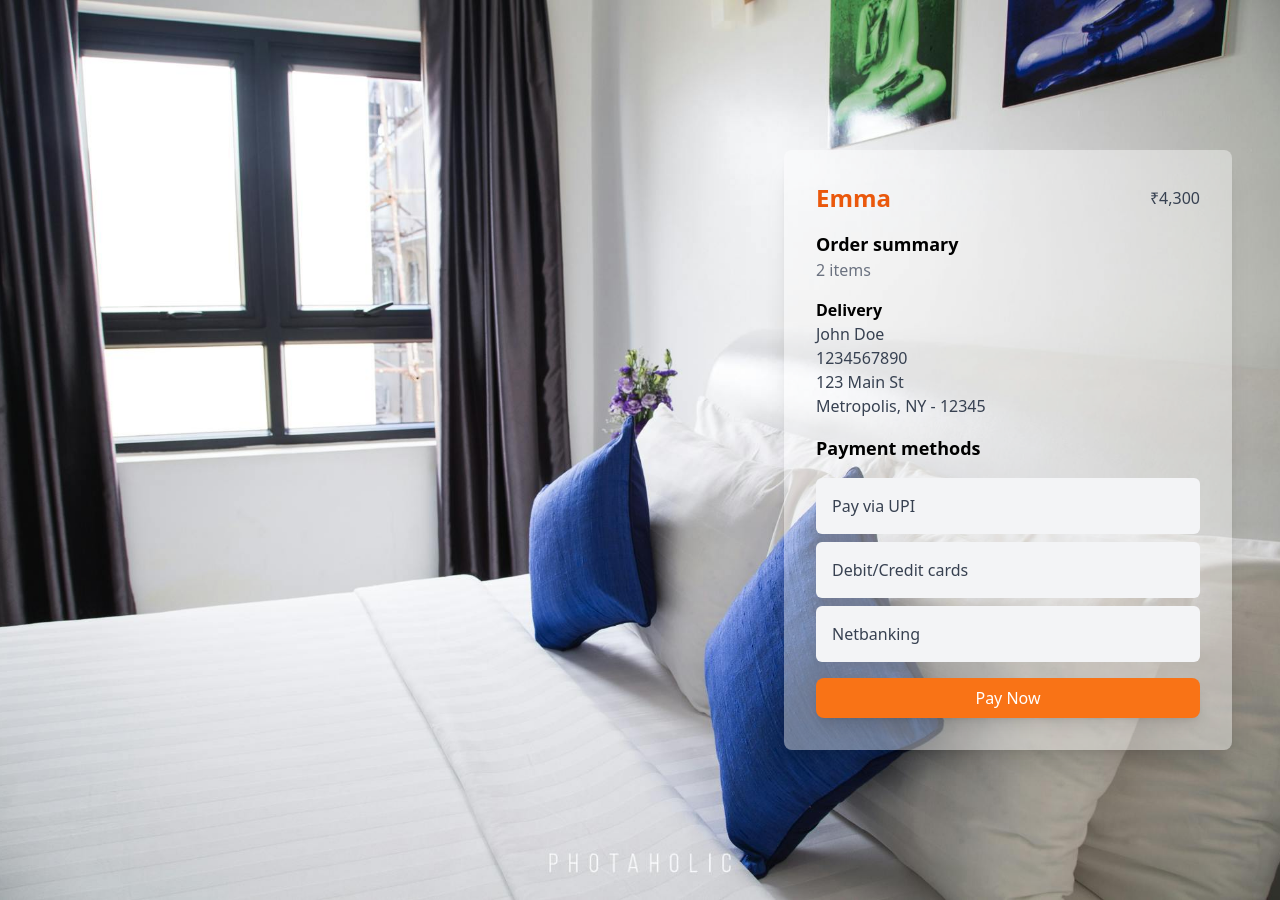
Test case: PaymentPage Component › displays a success message after payment and navigates to order details page
Click the text "Pay via UPI" at (874, 506), box [832,494,915,518]
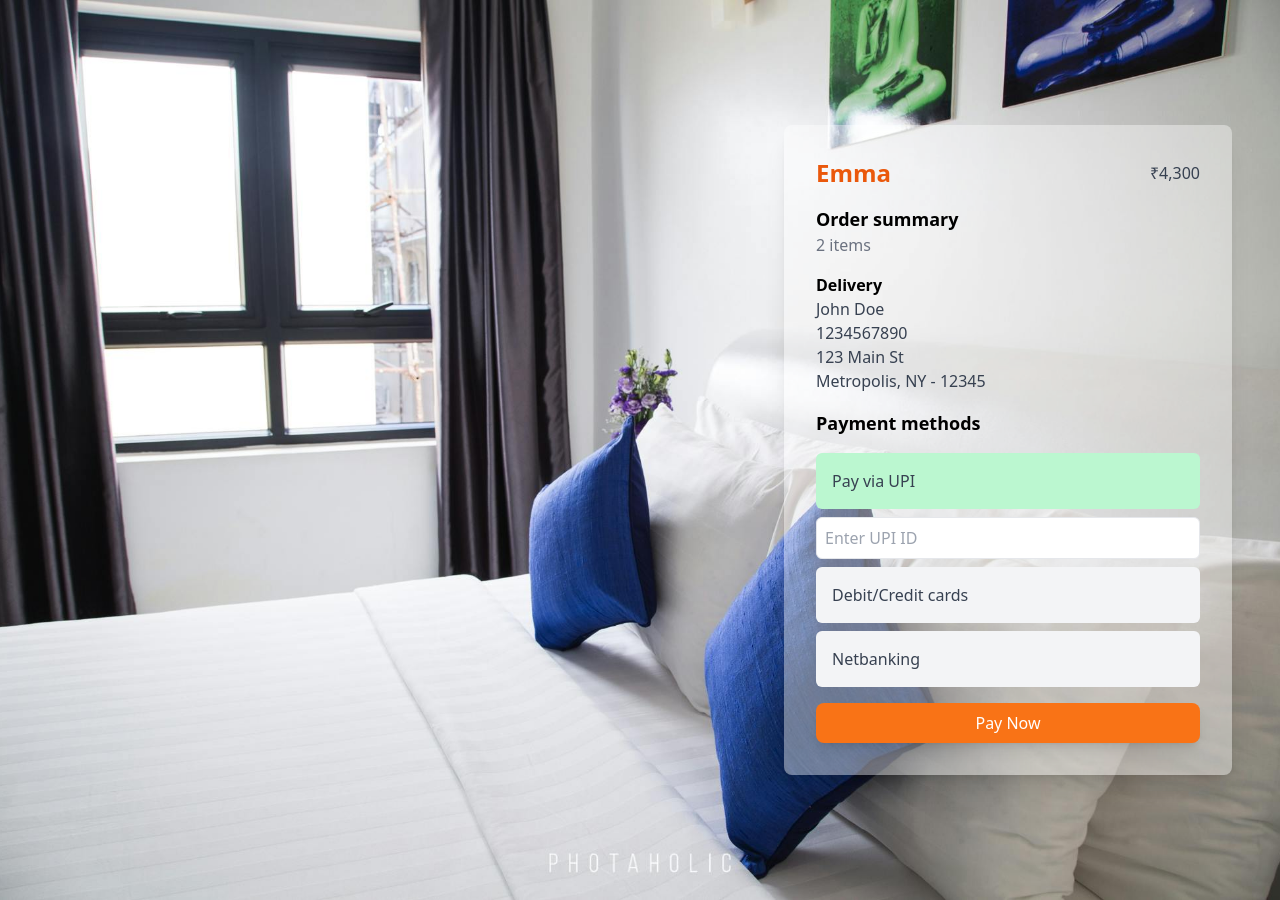
Type "test@upi" into the field with placeholder "Enter UPI ID" at (1008, 538), box [816,517,1200,559]
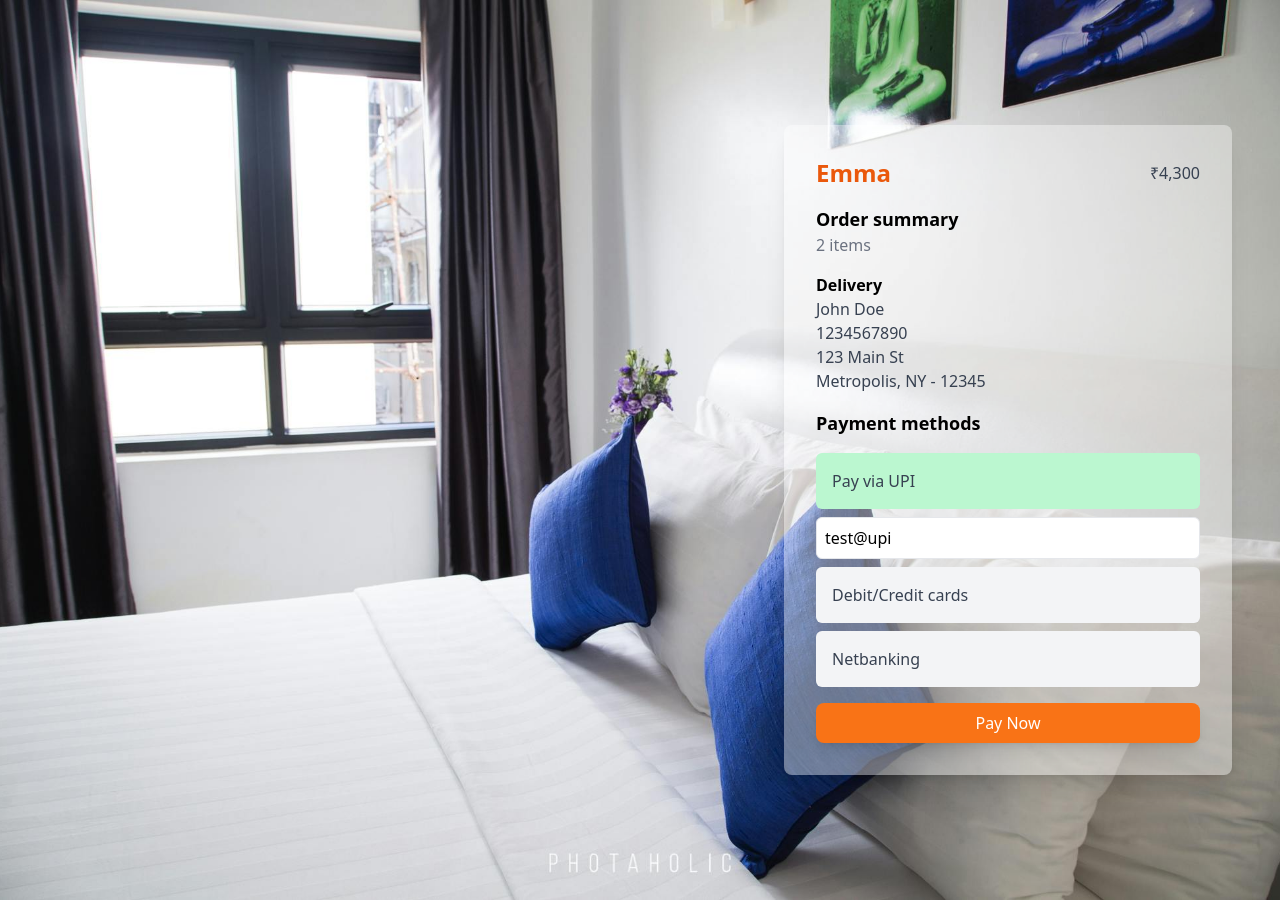
Click the button "Pay Now" at (1008, 723), box [816,703,1200,743]
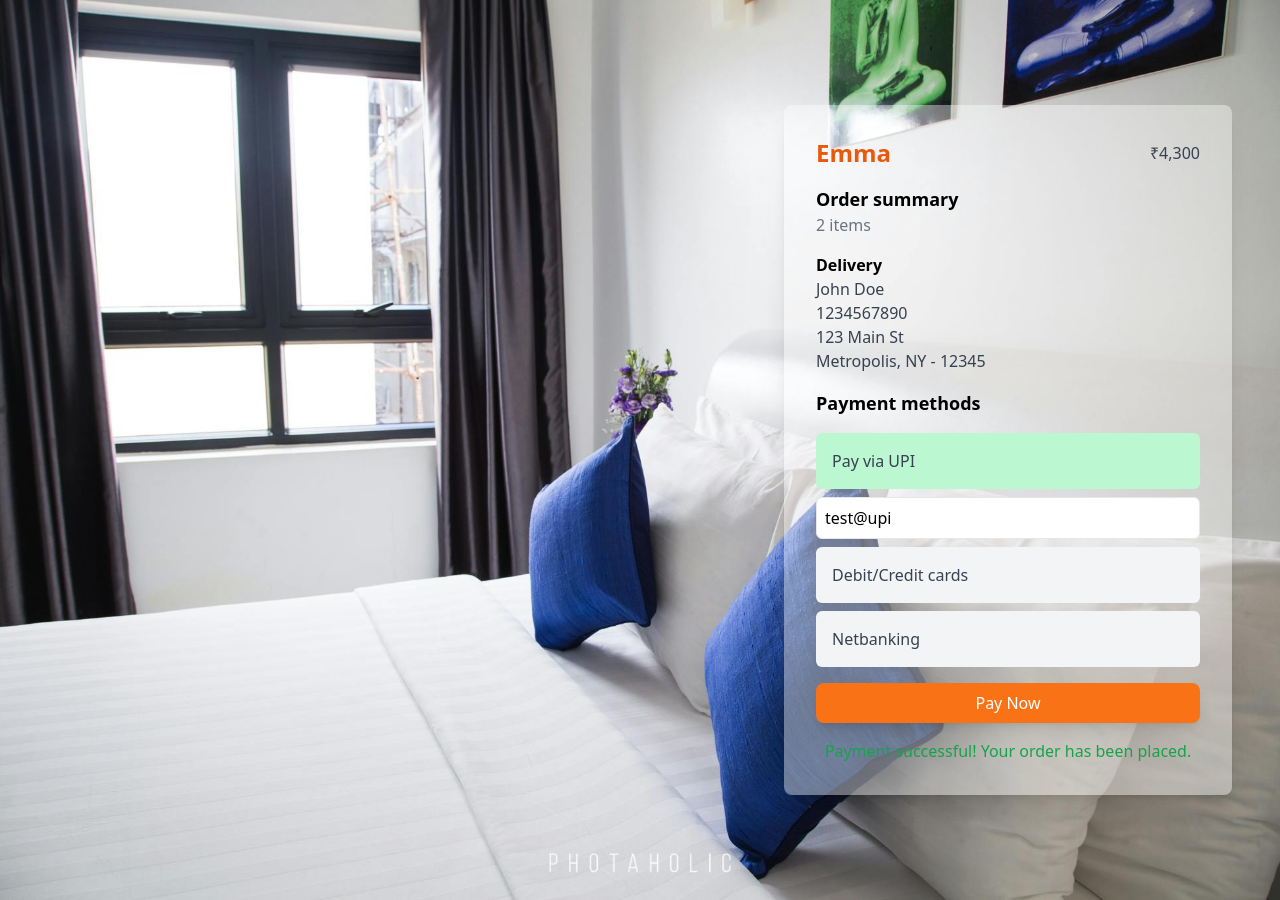
Now the text "Payment successful! Your order has been placed." is shown, box [816,739,1200,763]
